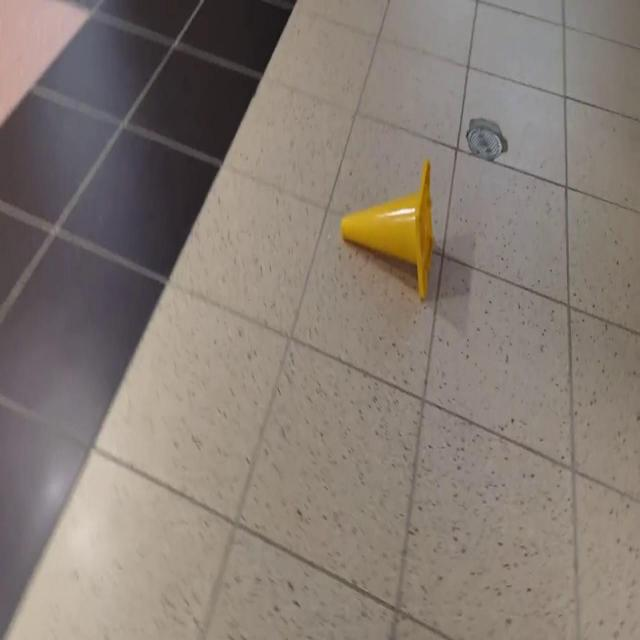frc_cone: (340, 160, 436, 301)
